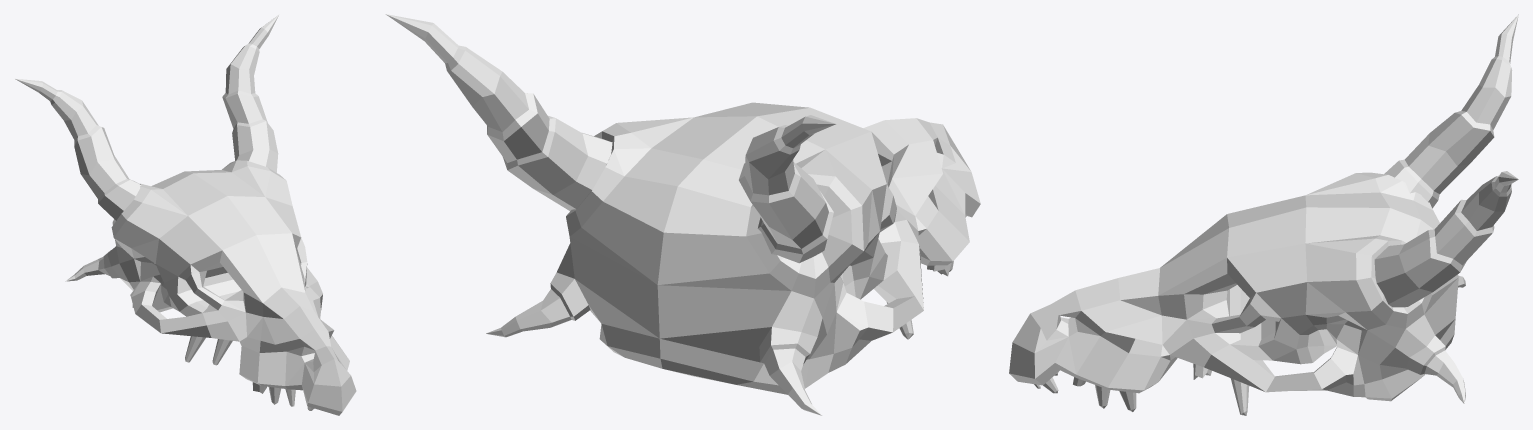
Rendered from Drg_Bone_02.FBX.
3 views of the same model, side by side, from view 1: azimuth 30°, elevation 25°; view 2: azimuth 150°, elevation 25°; view 3: azimuth 270°, elevation 25° (orthographic). The views are drawn at different scales.
Visible parts, largest first — view 1: Drg_Bone_02; view 2: Drg_Bone_02; view 3: Drg_Bone_02.
Boxes of the visible parts, <box> form: Drg_Bone_02: <box>15,14,356,415</box>; Drg_Bone_02: <box>385,14,980,415</box>; Drg_Bone_02: <box>1009,14,1518,415</box>.
Size of the model in its own units: 9.01 by 7.52 by 11.74.
